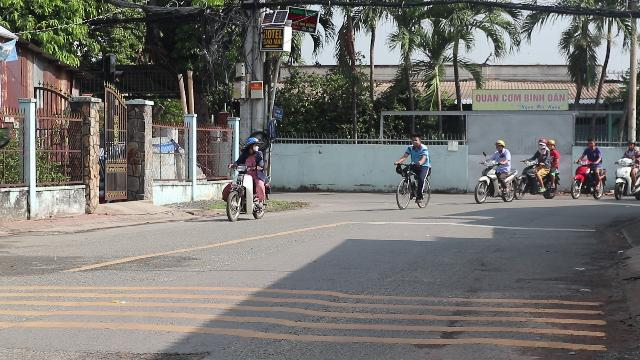helmet: (244, 137, 258, 152)
motorcyclist: (222, 135, 270, 221)
